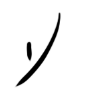so: (12, 9, 64, 90)
